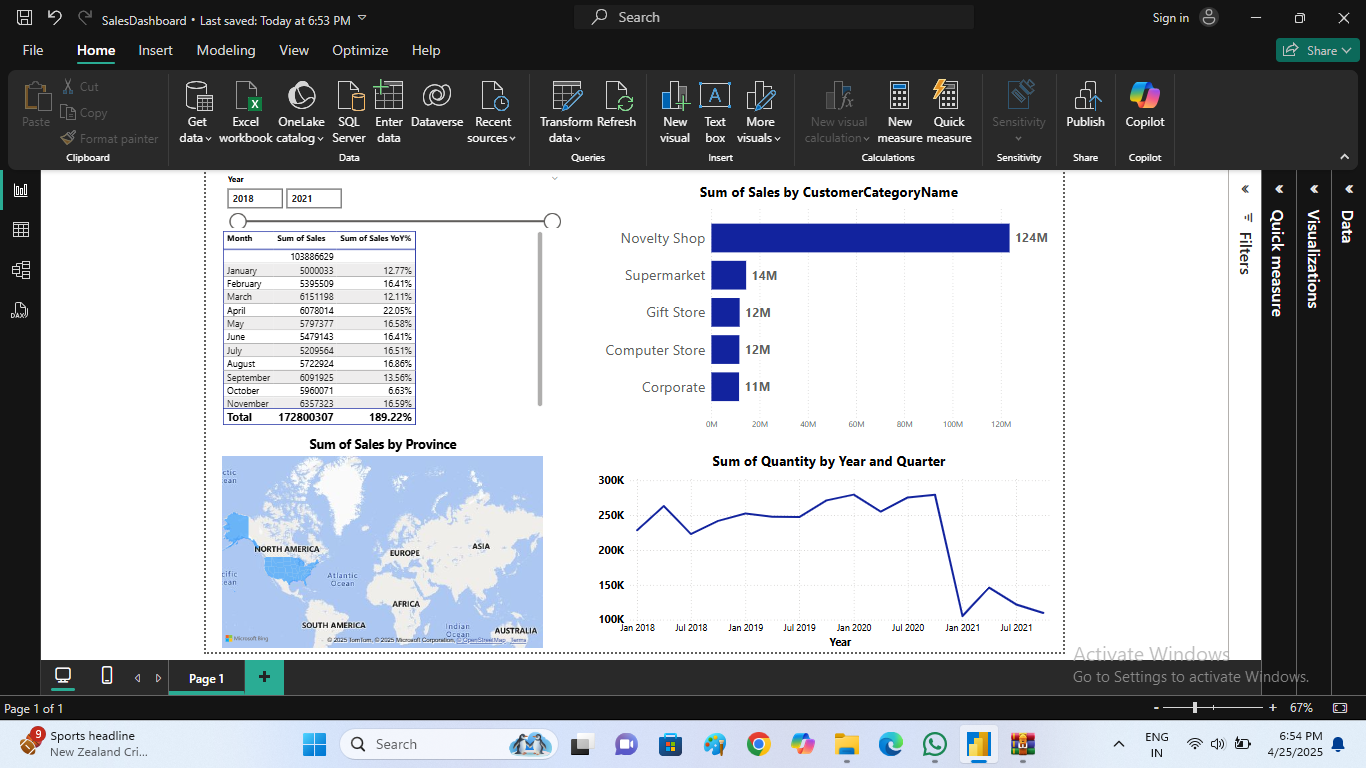

What the dashboard file says about the page in this screenshot:
{"tool":"powerbi","page":{"name":"Page 1","canvas":[1280,720],"ordinal":0},"visuals":[{"type":"clusteredBarChart","fields":{"Category":["MasterCustomer1.CustomerCategoryName"],"Y":["Sum(InvoiceData.Sales)"]},"box":[581,17.6,699,380.3],"z":0},{"type":"slicer","fields":{"Values":["InvoiceData.Date.1.Variation.Date Hierarchy.Year"]},"box":[20.2,0,519.1,85.7],"z":1000},{"type":"tableEx","fields":{"Values":["InvoiceData.Date.1.Variation.Date Hierarchy.Month","Sum(InvoiceData.Sales)","InvoiceData.Sum of Sales YoY%"]},"box":[19.4,86.3,489.5,299.3],"z":2000},{"type":"filledMap","fields":{"Category":["MasterCustomer1 (2).Province"]},"box":[19.4,397.9,489.5,322.2],"z":2001},{"type":"lineChart","fields":{"Y":["Sum(InvoiceData.Quantity)"],"Category":["InvoiceData.Date.1.Variation.Date Hierarchy.Year","InvoiceData.Date.1.Variation.Date Hierarchy.Quarter"]},"box":[209.1,419.8,699.1,300.2],"z":2002}]}

Visuals, with their boxes on the page's 1280x720 design canvas (x1, y1, x2, y2). These are canvas units, not pixel positions in the 1366x768 screenshot, which may show the page scaled, cropped or inside an application window:
clusteredBarChart - MasterCustomer1.CustomerCategoryName x Sum(InvoiceData.Sales): rect(581, 18, 1280, 398)
slicer - InvoiceData.Date.1.Variation.Date Hierarchy.Year: rect(20, 0, 539, 86)
tableEx - InvoiceData.Date.1.Variation.Date Hierarchy.Month x Sum(InvoiceData.Sales): rect(19, 86, 509, 386)
filledMap - MasterCustomer1 (2).Province: rect(19, 398, 509, 720)
lineChart - Sum(InvoiceData.Quantity) x InvoiceData.Date.1.Variation.Date Hierarchy.Year: rect(209, 420, 908, 720)
